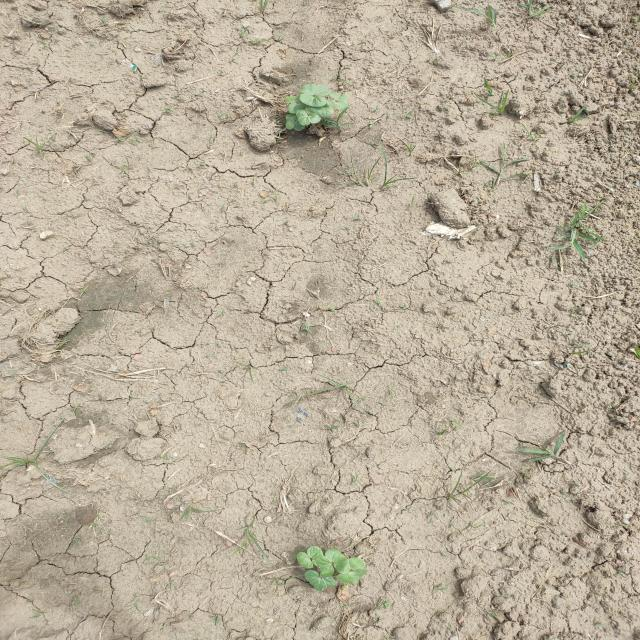seedling_s2: (326, 549, 350, 574), (304, 570, 327, 591), (336, 569, 368, 584), (311, 100, 334, 118), (316, 555, 335, 576), (299, 93, 327, 107), (300, 84, 331, 96), (307, 546, 323, 566), (305, 106, 321, 124), (297, 551, 313, 569), (288, 100, 307, 114), (296, 108, 310, 126), (319, 572, 335, 587), (347, 558, 365, 570), (329, 99, 348, 110), (294, 115, 306, 131), (330, 92, 348, 102), (285, 94, 303, 103), (285, 114, 295, 130)
